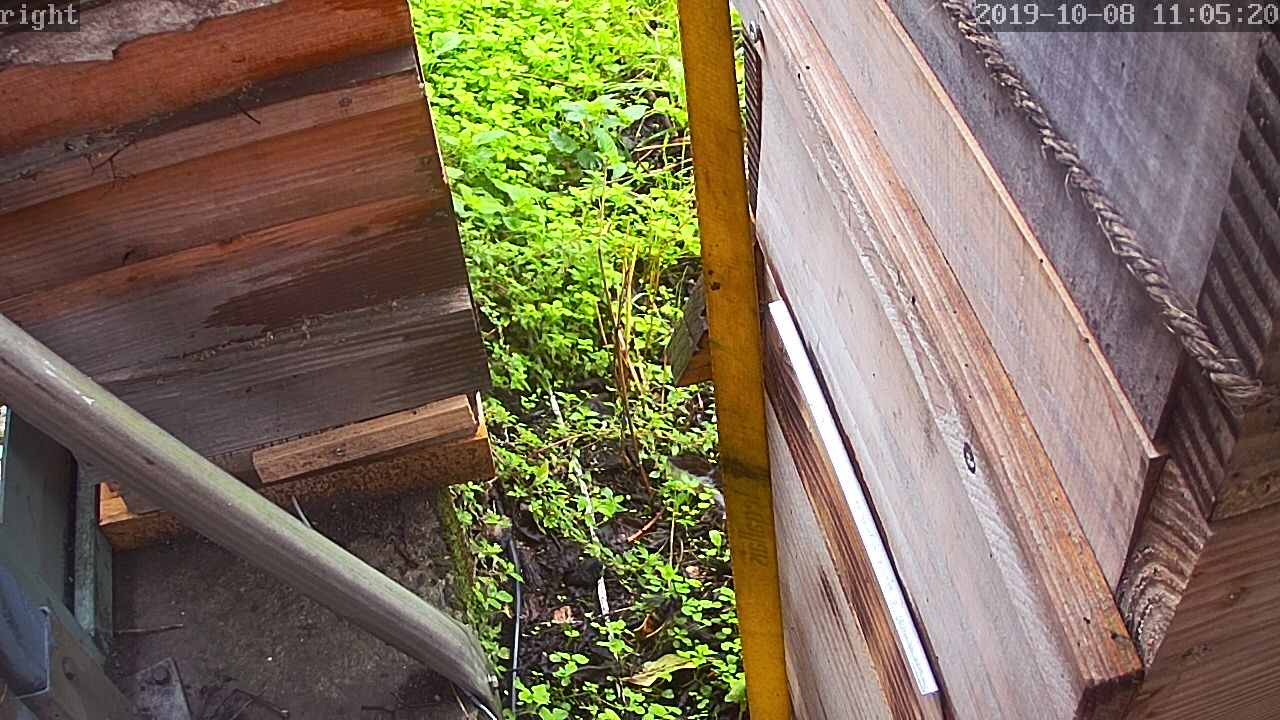hornet: (634, 588, 685, 640)
